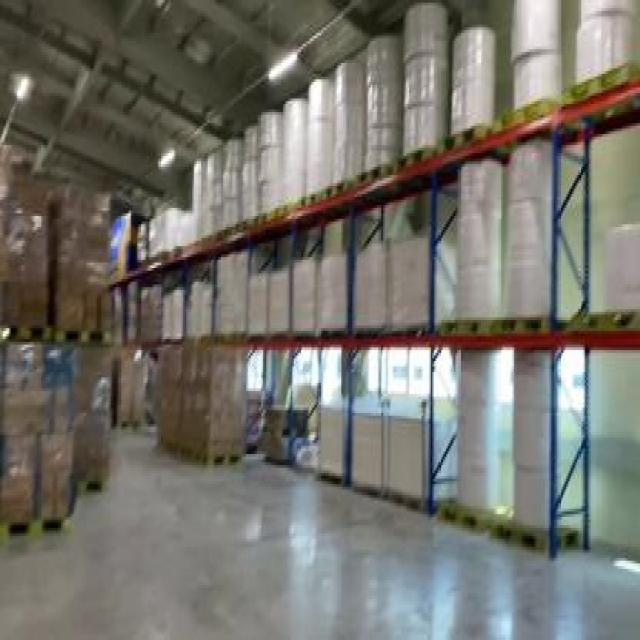box: (1, 158, 110, 552), (155, 333, 251, 468), (111, 353, 152, 424)
white_roll: (309, 391, 451, 523), (505, 342, 566, 550), (443, 347, 500, 536), (452, 156, 500, 336), (508, 145, 552, 331), (188, 123, 260, 230), (352, 240, 431, 334), (506, 2, 568, 118), (403, 3, 448, 153), (590, 216, 638, 331), (363, 27, 400, 167), (571, 3, 634, 82), (451, 22, 494, 137), (288, 254, 349, 334), (334, 54, 363, 180), (306, 76, 334, 188), (280, 96, 308, 208), (243, 265, 289, 331), (212, 254, 246, 342), (163, 279, 211, 339), (259, 107, 283, 227)
